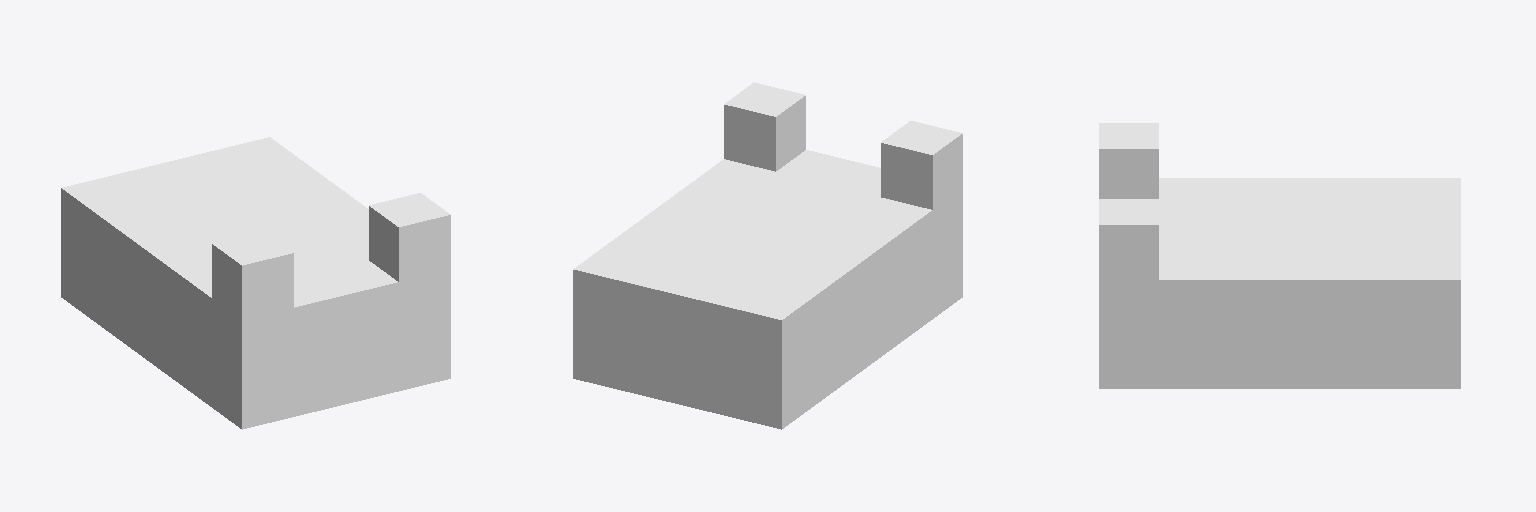
File: Dragon_large-0.obj
3 renders of one model, left to right at view 1: azimuth 30°, elevation 25°; view 2: azimuth 150°, elevation 25°; view 3: azimuth 270°, elevation 25°, orthographic.
Parts seen in each view (by area): view 1: object 1; view 2: object 1; view 3: object 1.
Boxes of the visible parts, x1=… form: object 1: x1=61, y1=137, x2=450, y2=429; object 1: x1=573, y1=82, x2=962, y2=429; object 1: x1=1099, y1=123, x2=1460, y2=388.
Size of the model in its own units: 0.8 by 0.6 by 1.2.